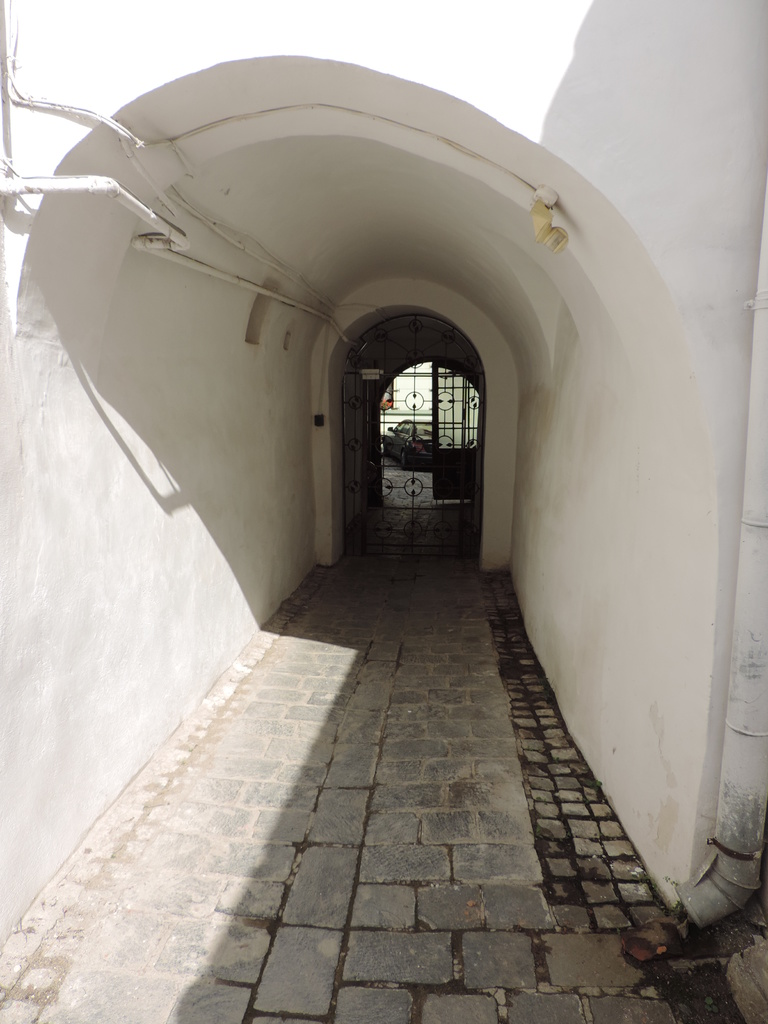Door: (329, 294, 479, 545)
